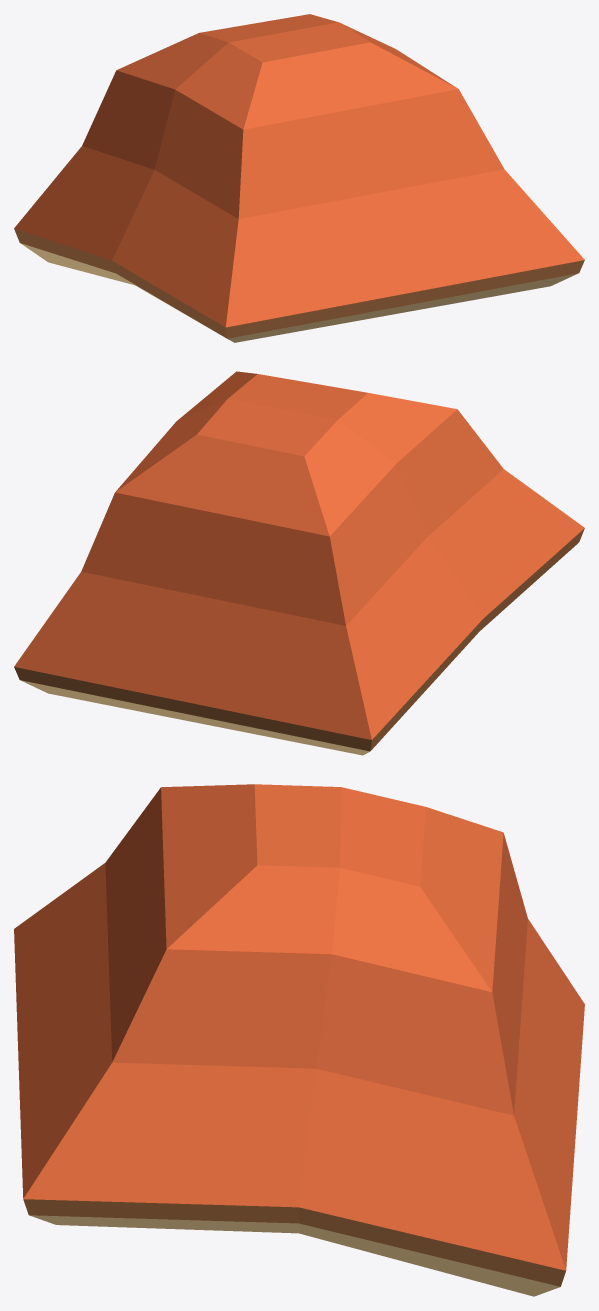
Rendered from Dino_Back_Plate.glb.
3 views of the same model, one above another, from view 1: azimuth 30°, elevation 25°; view 2: azimuth 150°, elevation 25°; view 3: azimuth 270°, elevation 25° (orthographic). The views are drawn at different scales.
Parts seen in each view (by area): view 1: Dino_Back_Plate; view 2: Dino_Back_Plate; view 3: Dino_Back_Plate.
Part boxes in pixels (<box>): Dino_Back_Plate: <box>14,14,584,342</box>; Dino_Back_Plate: <box>14,371,584,755</box>; Dino_Back_Plate: <box>14,784,584,1296</box>.
Bounding box in the file's own units: 1.55 × 1.11 × 1.54.
